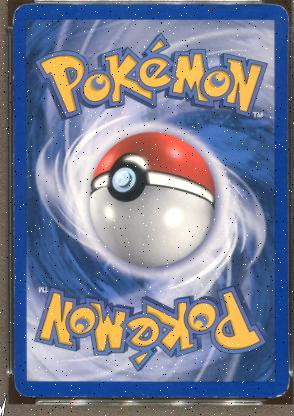Card: (10, 2, 290, 400)
Corner Wear: (264, 376, 288, 400), (12, 375, 37, 398), (9, 4, 24, 29)
Edge Wear: (62, 394, 131, 398), (200, 394, 247, 398), (13, 148, 15, 242), (12, 73, 16, 119), (13, 257, 15, 331)
